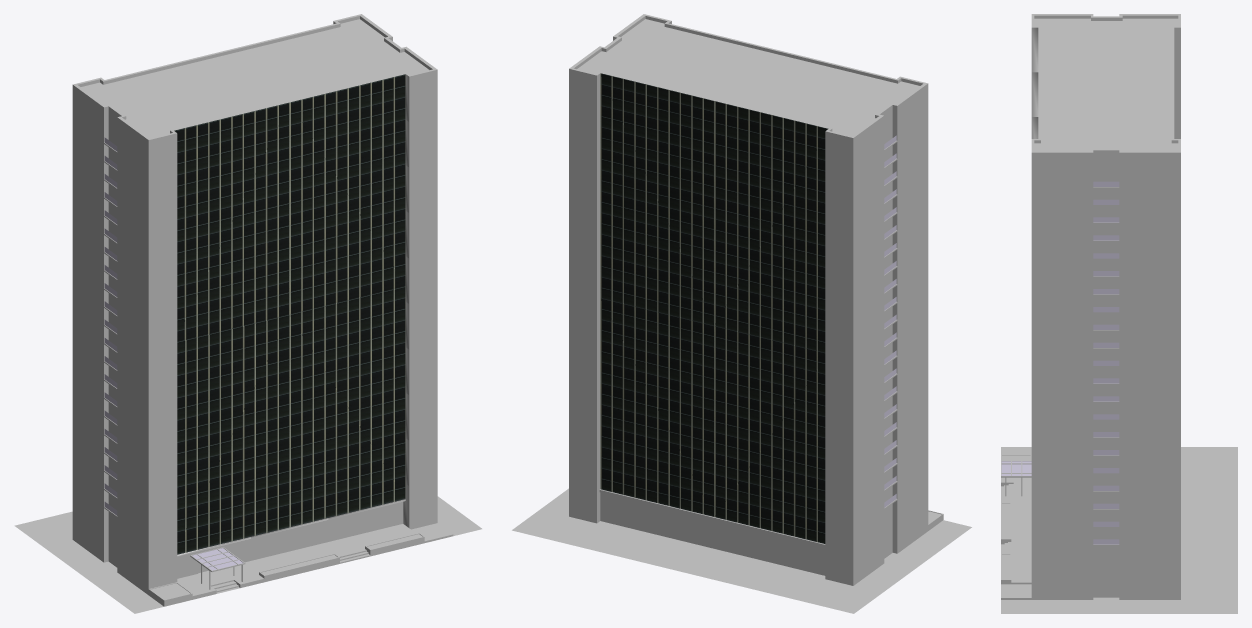
3 views of the same model, side by side, from view 1: azimuth 30°, elevation 25°; view 2: azimuth 150°, elevation 25°; view 3: azimuth 270°, elevation 25° (orthographic).
Parts seen in each view (by area): view 1: BC-007; view 2: BC-007; view 3: BC-007.
Part boxes in pixels (x1,y1,x2,y2): BC-007: [14, 14, 481, 613]; BC-007: [512, 14, 971, 613]; BC-007: [1001, 14, 1237, 613].
Size of what is drawn, in the model's own units: 60 by 75 by 36.
